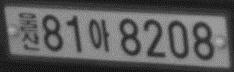0: (166, 18, 189, 59)
1: (64, 14, 86, 52)
2: (142, 17, 166, 57)
8: (192, 20, 215, 60), (118, 17, 141, 55), (41, 13, 63, 51)
아: (88, 19, 111, 52)
울산_V: (18, 11, 40, 51)
